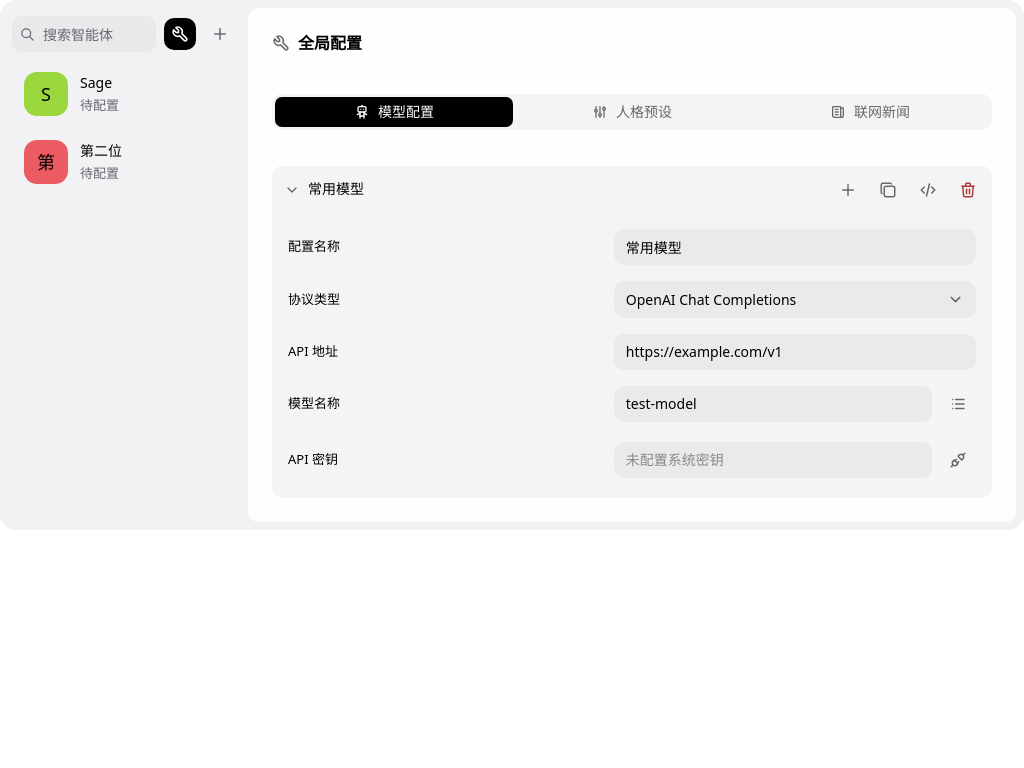
Test: 持久资源智能体页面 › 智能体昵称按中文 2、英文 1 计宽，九个中文不写入
Click the button "S Sage 待配置". click: (124, 94)
box: top-left (12, 60), bottom-right (236, 128)
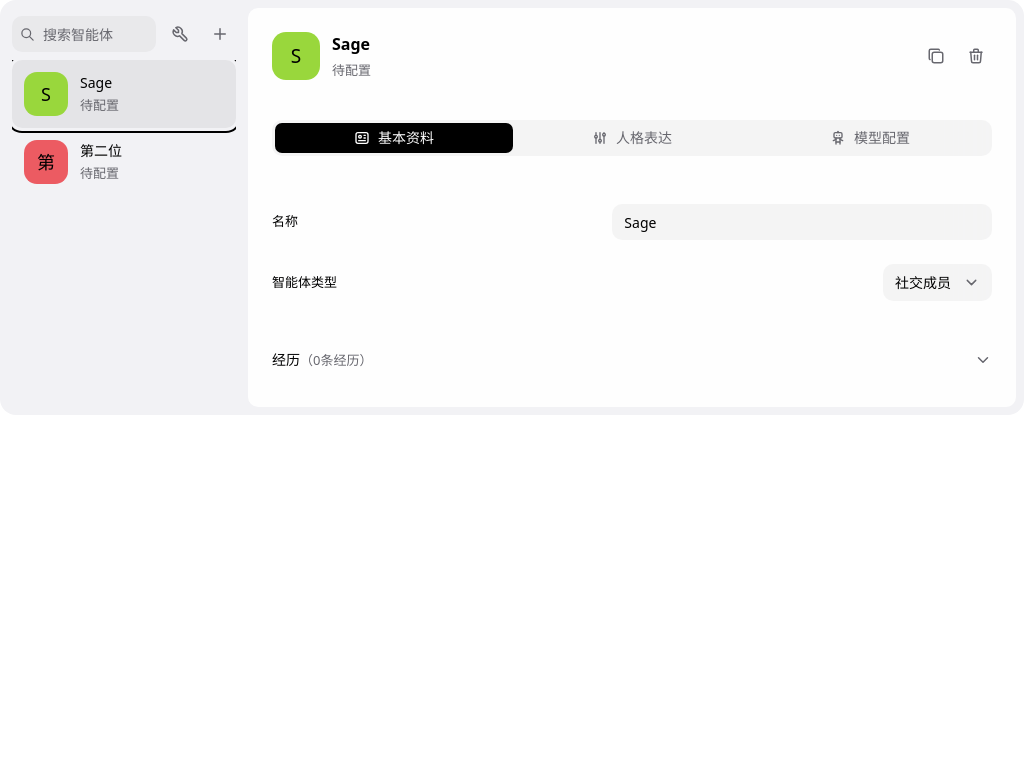
Replace the text in the field labelled "名称" with "九个中文昵称啊哈哈". click: (802, 222)
box: top-left (612, 204), bottom-right (992, 240)
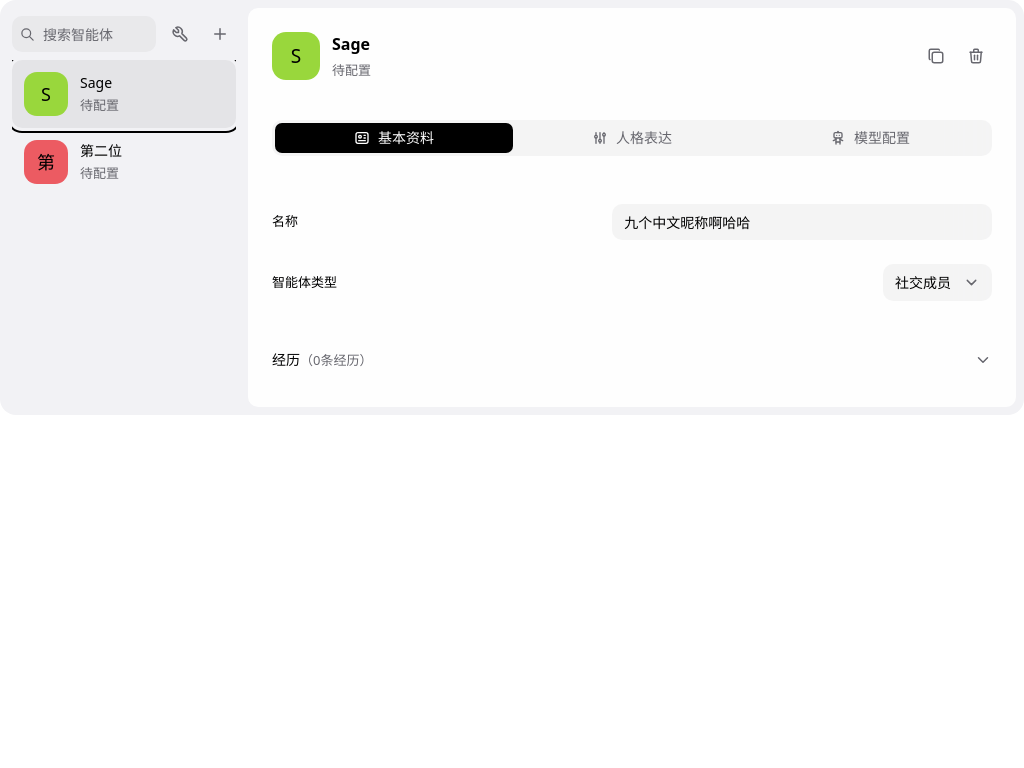
Leave the field labelled "名称", box top-left (612, 204), bottom-right (992, 240)
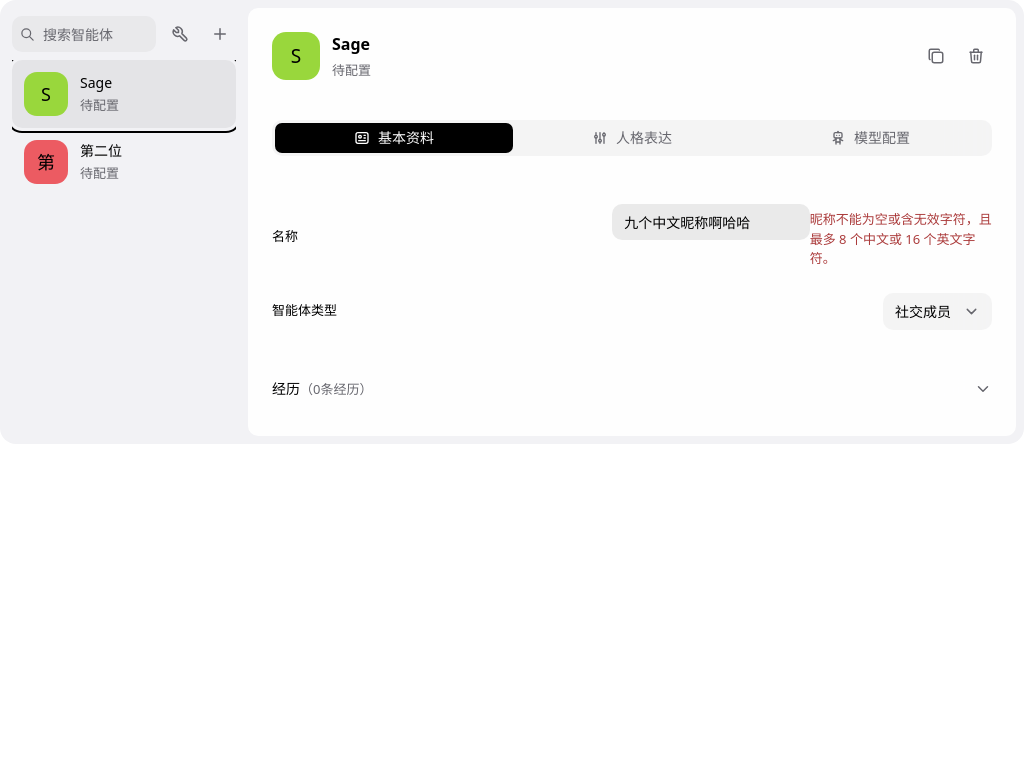
Check: the message "昵称不能为空或含无效字符，且最多 8 个中文或 16 个英文字符。" is shown, box top-left (810, 210), bottom-right (992, 268)
